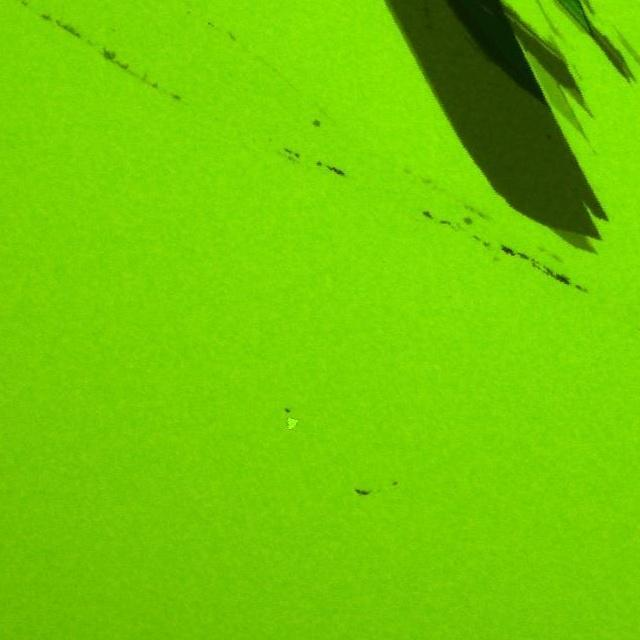monolayer-eWW4: (526, 53, 586, 133)
